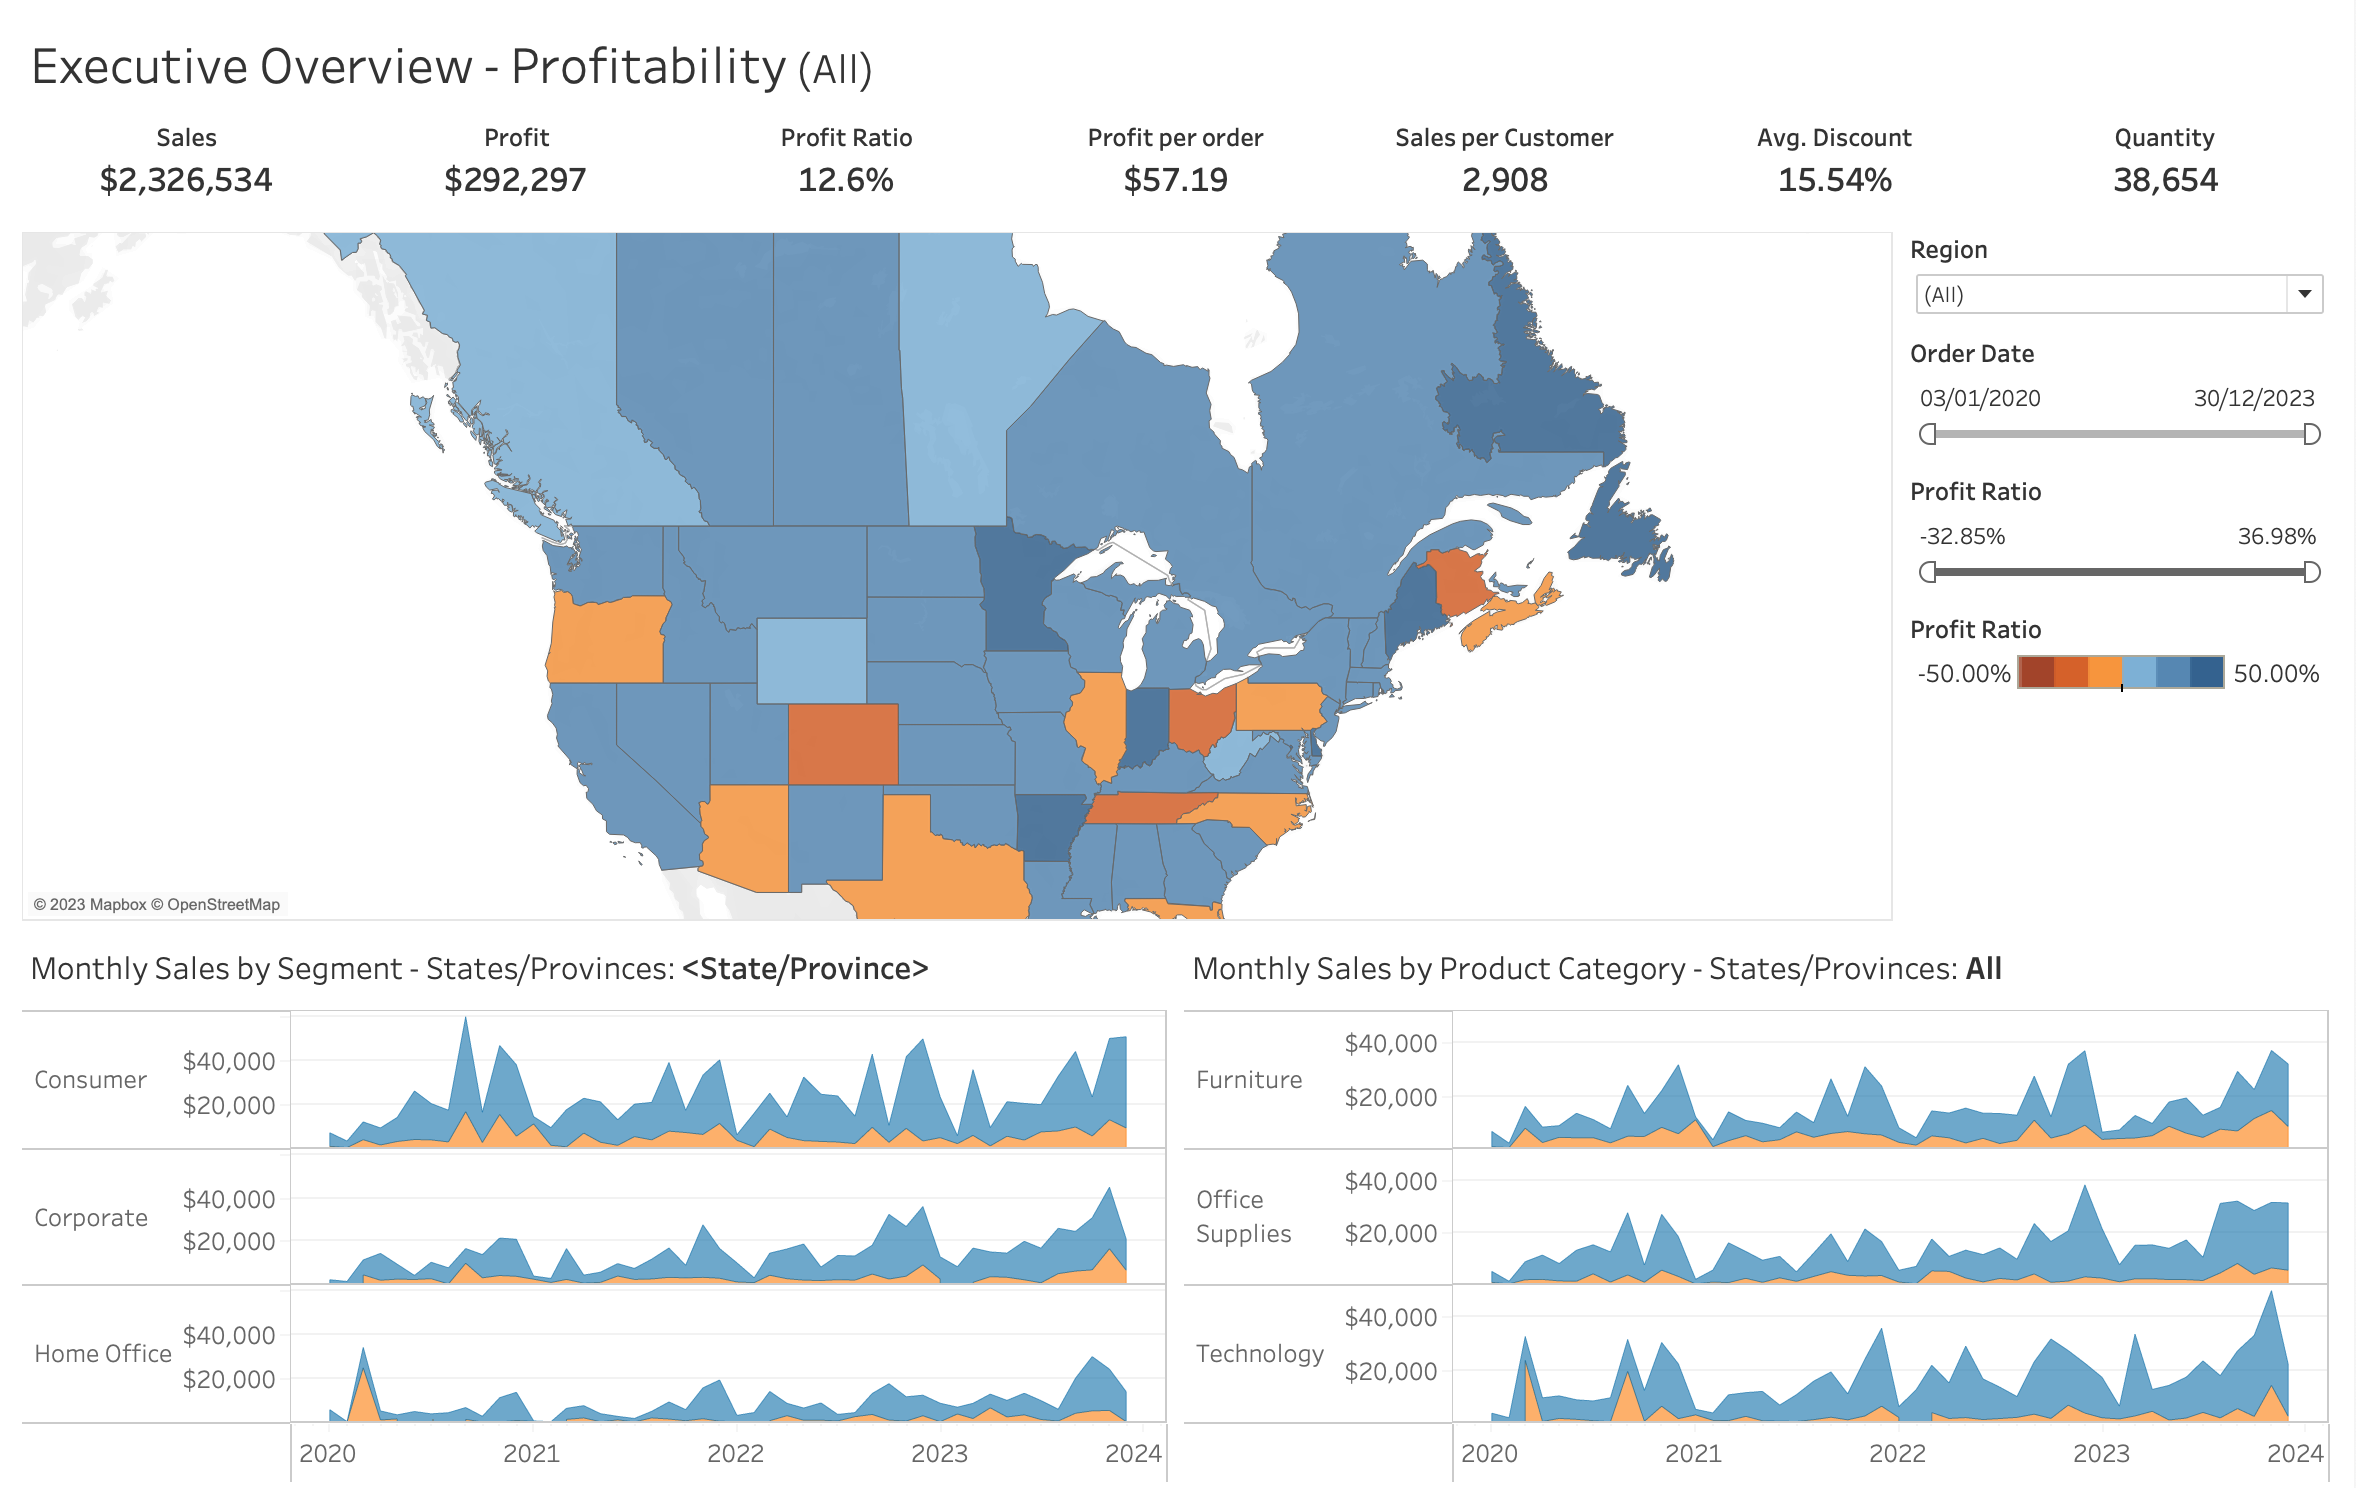

The page's visual inventory and layout, read from the dashboard file:
{"tool":"tableau","page":{"name":"Overview","canvas":[1000,1000],"units":"permille","ordinal":2},"visuals":[{"type":"worksheet","title":"Total Sales","mark":"Automatic","box":[6.8,10.6,986.4,125.8]},{"type":"worksheet","title":"Profti Ratio by Geography","mark":"Multipolygon","box":[6.8,149.7,801.4,467.6]},{"type":"filter","title":"Profti Ratio by Geography","param":"[Sample - Superstore].[none:Region:nk]","box":[808.1,149.7,185.1,68.9]},{"type":"filter","title":"Profti Ratio by Geography","param":"[Sample - Superstore].[none:Order Date:qk]","box":[808.1,218.5,185.1,91.4]},{"type":"filter","title":"Profti Ratio by Geography","param":"[Sample - Superstore].[usr:Calculation_3004252807550980096:qk]","box":[808.1,309.9,185.1,91.4]},{"type":"legend","title":"Profti Ratio by Geography","param":"[Sample - Superstore].[usr:Calculation_3004252807550980096:qk]","box":[808.1,401.3,185.1,86.1]},{"type":"worksheet","title":"Sales by Segment","mark":"Area","rows":["Segment","Sales"],"cols":["Order Date"],"box":[6.8,617.2,493.2,372.2]},{"type":"worksheet","title":"Sales by Category","mark":"Area","rows":["Category","Sales"],"cols":["Order Date"],"box":[500,617.2,493.2,372.2]}]}

Visuals, with their boxes on the dashboard's canvas, which has no fixed pixel size, in thousandths of its width and height (x1, y1, x2, y2). These are canvas units, not pixel positions in the 2356x1488 screenshot, which may show the page scaled, cropped or inside an application window:
"Total Sales" worksheet: pyautogui.locateOnScreen(7, 11, 993, 136)
"Profti Ratio by Geography" worksheet (Multipolygon marks): pyautogui.locateOnScreen(7, 150, 808, 617)
"Profti Ratio by Geography" filter: pyautogui.locateOnScreen(808, 150, 993, 219)
"Profti Ratio by Geography" filter: pyautogui.locateOnScreen(808, 218, 993, 310)
"Profti Ratio by Geography" filter: pyautogui.locateOnScreen(808, 310, 993, 401)
"Profti Ratio by Geography" legend: pyautogui.locateOnScreen(808, 401, 993, 487)
"Sales by Segment" worksheet (Area marks): pyautogui.locateOnScreen(7, 617, 500, 989)
"Sales by Category" worksheet (Area marks): pyautogui.locateOnScreen(500, 617, 993, 989)
